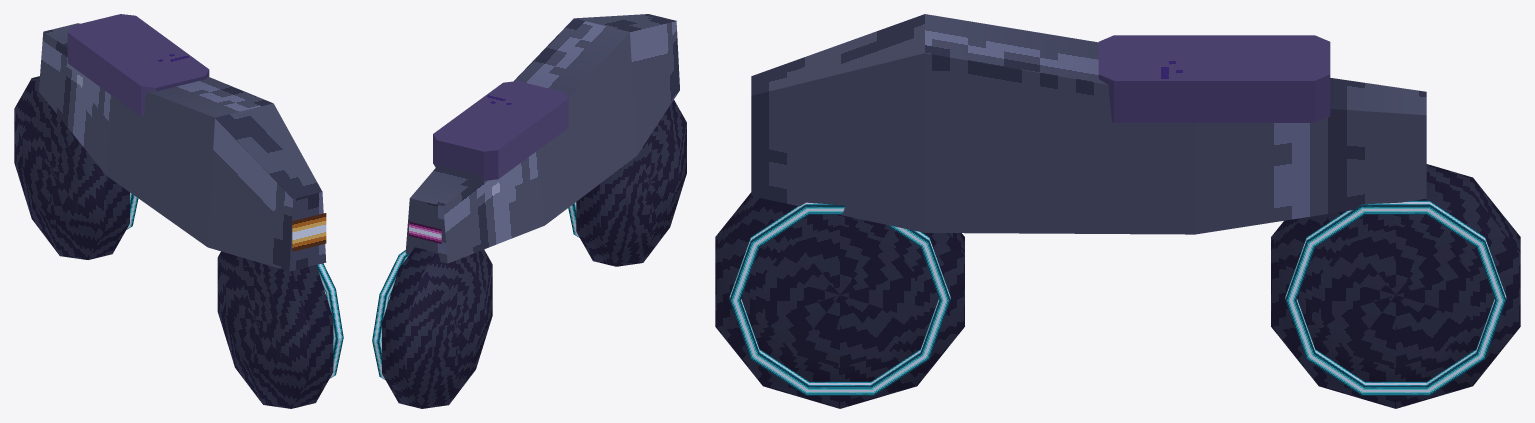
File: cytech.bike.glb
The picture shows the model from 3 angles, left to right: view 1: azimuth 30°, elevation 25°; view 2: azimuth 150°, elevation 25°; view 3: azimuth 270°, elevation 25°; orthographic projection. The views are drawn at different scales.
Parts seen in each view (by area): view 1: kit_bike, kit_rims, kit_card_lamps; view 2: kit_bike, kit_rims, kit_card_lamps; view 3: kit_bike, kit_rims.
Boxes of the visible parts, left/top/right/bottom form: kit_bike: left=14, top=14, right=333, bottom=408; kit_rims: left=126, top=192, right=343, bottom=378; kit_card_lamps: left=292, top=213, right=326, bottom=251; kit_bike: left=382, top=14, right=686, bottom=408; kit_rims: left=372, top=202, right=579, bottom=379; kit_card_lamps: left=409, top=221, right=441, bottom=243; kit_bike: left=715, top=14, right=1520, bottom=408; kit_rims: left=729, top=200, right=1506, bottom=395.
Size of the model in its own units: 0.32 by 1.05 by 2.09.
4 materials, 4 textured.
